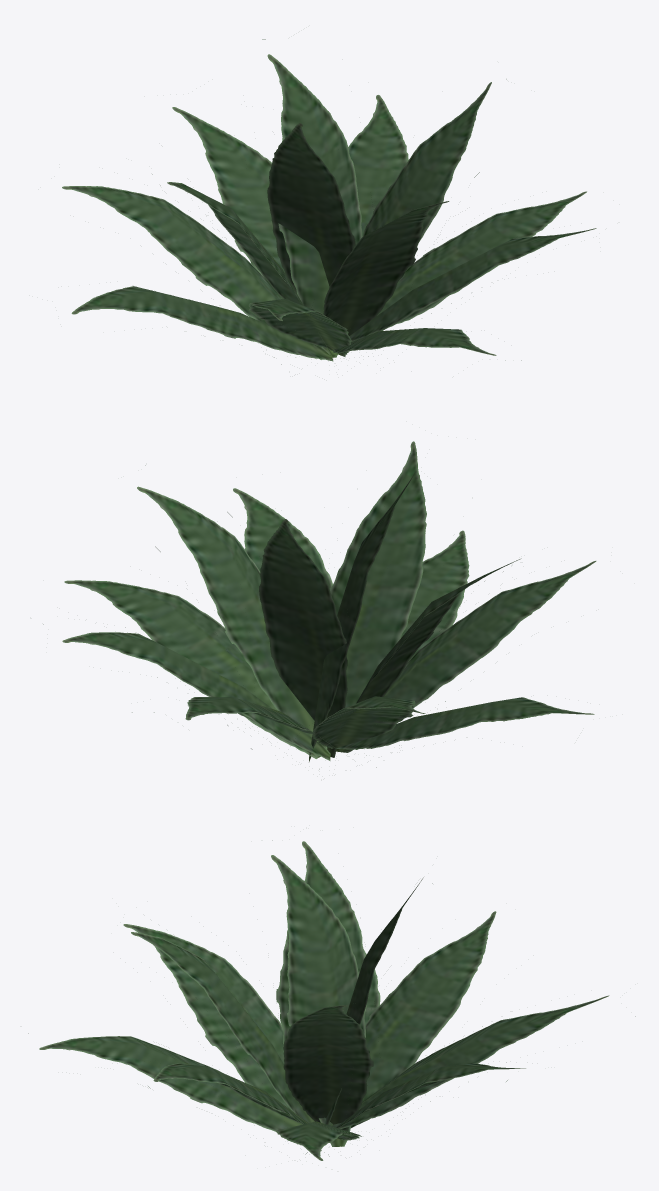
Rendered from plant10.FBX.
3 renders of one model, top to bottom at view 1: azimuth 30°, elevation 25°; view 2: azimuth 150°, elevation 25°; view 3: azimuth 270°, elevation 25°, orthographic. The views are drawn at different scales.
Parts seen in each view (by area): view 1: plant10; view 2: plant10; view 3: plant10.
Boxes of the visible parts, bbox=[...] form: plant10: bbox=[62, 39, 596, 364]; plant10: bbox=[43, 441, 596, 769]; plant10: bbox=[28, 840, 635, 1160].
Bounding box in the file's own units: 2.47 × 1.2 × 2.47.
